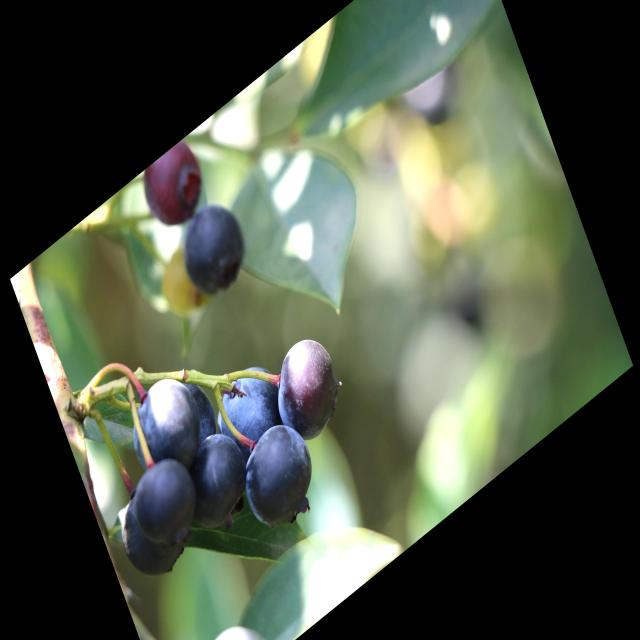blueberry: (227, 402, 335, 562), (115, 355, 218, 509), (257, 314, 357, 463), (168, 412, 265, 558), (166, 178, 261, 320), (120, 436, 211, 572), (201, 347, 294, 478), (105, 467, 192, 602), (167, 360, 227, 458)
blueberry-halfripe: (136, 134, 212, 243)
blueberry-unripe: (152, 242, 209, 331)
